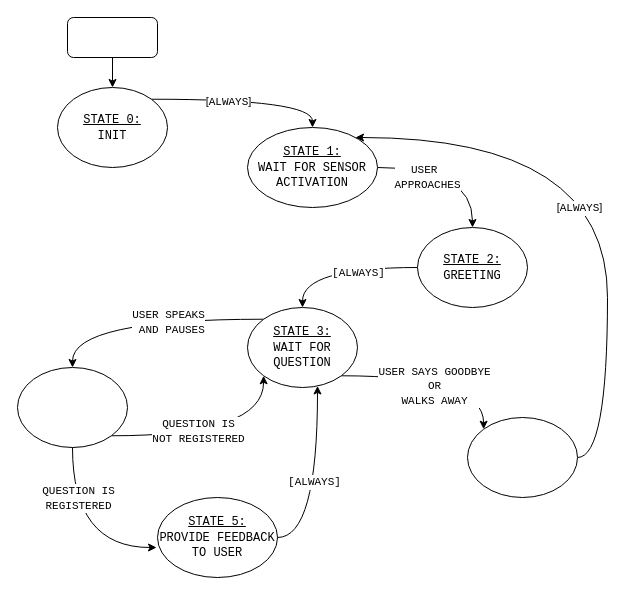
This 625x595 diagram has some shape labels left out. Each missing label, with the centre of its shape:
"START" belongs at (112,37).
"STATE 4: SEND TO LLM" belongs at (72,407).
"STATE 6: GOODBYE GREETING" belongs at (522,457).
